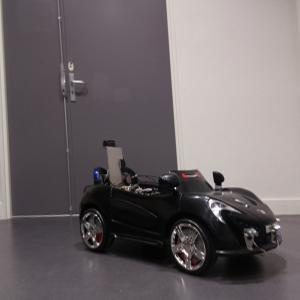big: (77, 167, 287, 279)
